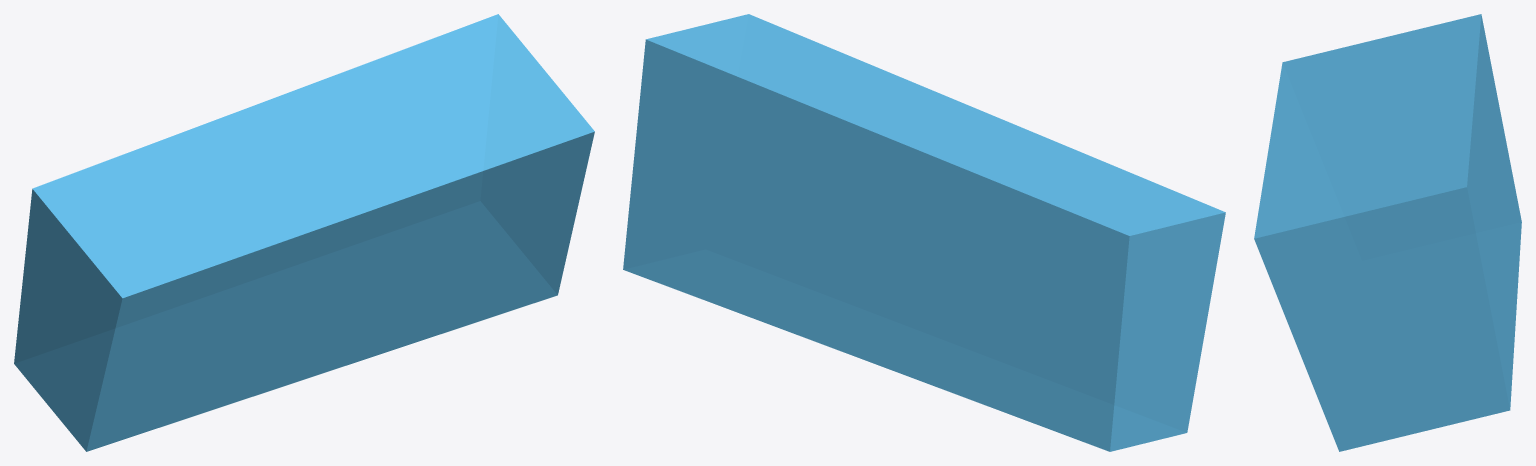
Rendered from Event_421556567_HErechit_39.fbx.
3 renders of one model, left to right at view 1: azimuth 30°, elevation 25°; view 2: azimuth 150°, elevation 25°; view 3: azimuth 270°, elevation 25°, orthographic. The views are drawn at different scales.
Visible parts, largest first — view 1: Model; view 2: Model; view 3: Model.
Boxes of the visible parts, bbox=[...] form: Model: bbox=[14, 14, 594, 451]; Model: bbox=[623, 14, 1225, 451]; Model: bbox=[1254, 14, 1521, 451].
Size of the model in its own units: 0.7179 by 0.433 by 0.3274.
